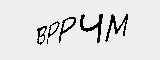В: (34, 22, 45, 45)
М: (108, 9, 127, 42)
Р: (60, 12, 75, 43), (47, 21, 58, 45)
Ч: (79, 13, 104, 44)
